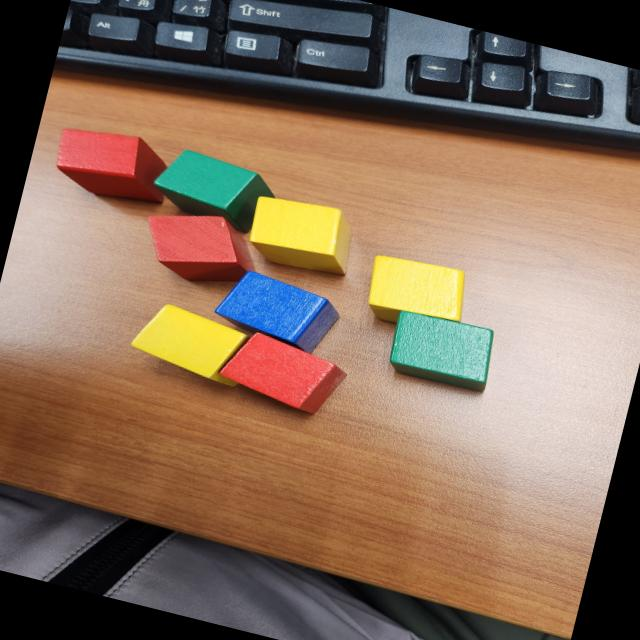blue: (206, 263, 347, 361)
green: (143, 140, 290, 240), (382, 306, 502, 396)
red: (131, 198, 269, 297), (212, 325, 352, 421), (46, 116, 178, 212)
yellow: (124, 296, 256, 390), (242, 188, 361, 280), (359, 248, 474, 338)
